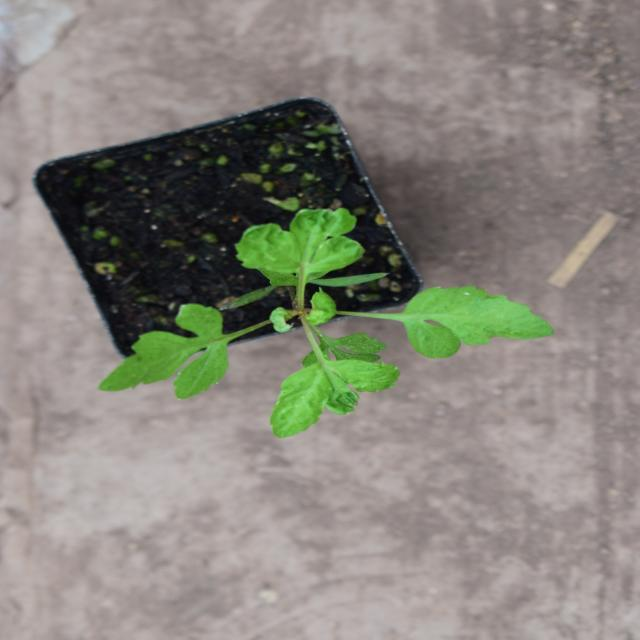Bidens pilosa: (202, 92, 426, 529)
